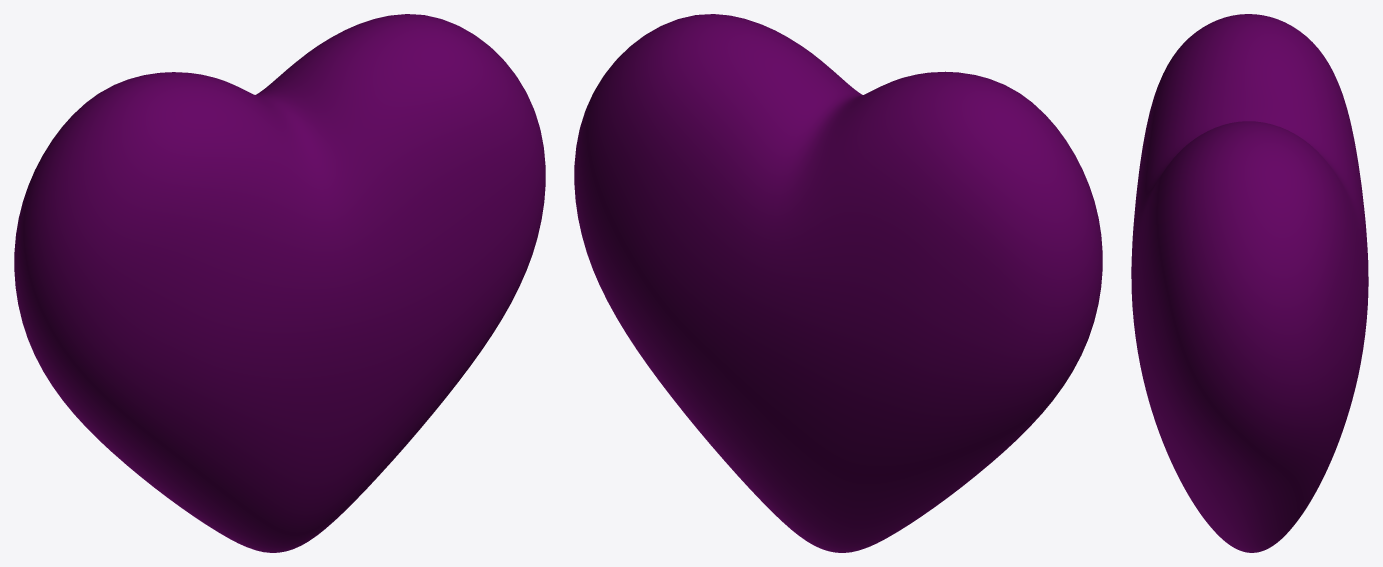
File: heart.fbx
3 views of the same model, side by side, from view 1: azimuth 30°, elevation 25°; view 2: azimuth 150°, elevation 25°; view 3: azimuth 270°, elevation 25° (orthographic). The views are drawn at different scales.
Parts seen in each view (by area): view 1: _Heart_v1_L3:Heart; view 2: _Heart_v1_L3:Heart; view 3: _Heart_v1_L3:Heart.
Boxes of the visible parts, x1,y1,x2,y2 form: _Heart_v1_L3:Heart: (14,14,545,552); _Heart_v1_L3:Heart: (574,14,1102,552); _Heart_v1_L3:Heart: (1131,14,1368,552).
Size of the model in its own units: 21.25 by 19.91 by 9.14.
